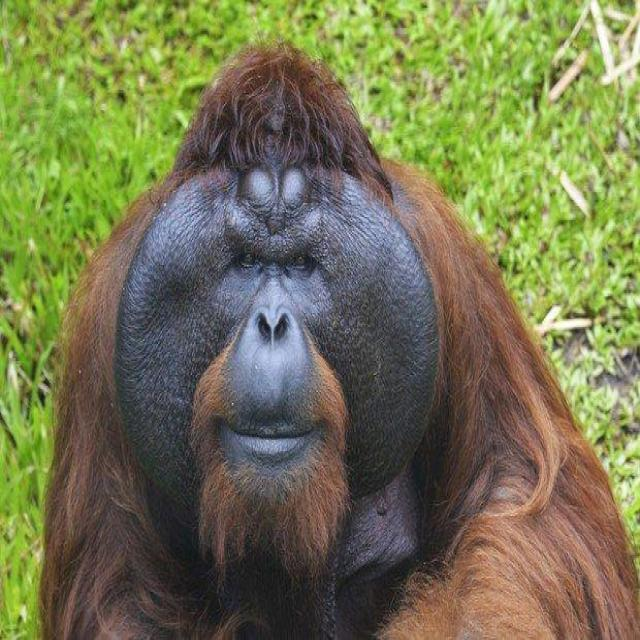Chimpanzee: (63, 63, 587, 640)
